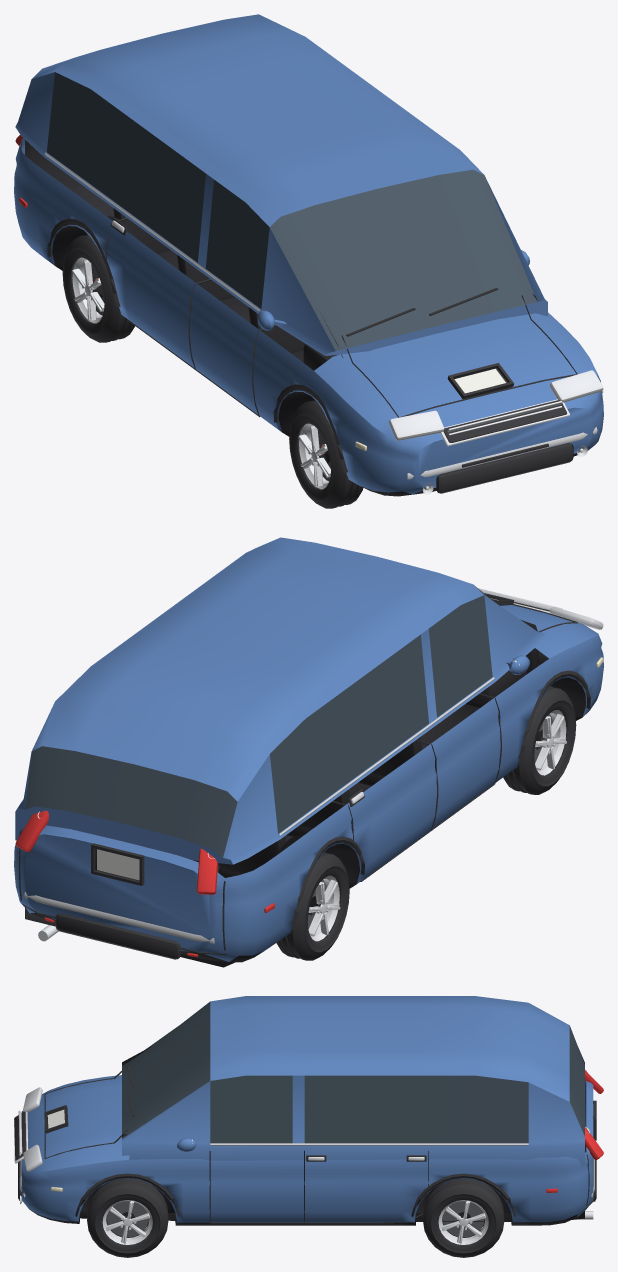
Rendered from CarV2_Minivan.fbx.
The picture shows the model from 3 angles, top to bottom: view 1: azimuth 30°, elevation 25°; view 2: azimuth 150°, elevation 25°; view 3: azimuth 270°, elevation 25°; orthographic projection. The views are drawn at different scales.
Parts seen in each view (by area): view 1: CarV2_Minivan; view 2: CarV2_Minivan; view 3: CarV2_Minivan.
Part boxes in pixels (x1=…): CarV2_Minivan: x1=14, y1=14, x2=603, y2=508; CarV2_Minivan: x1=14, y1=537, x2=603, y2=967; CarV2_Minivan: x1=14, y1=996, x2=603, y2=1257.
Size of the model in its own units: 1.94 by 1.77 by 5.01.
